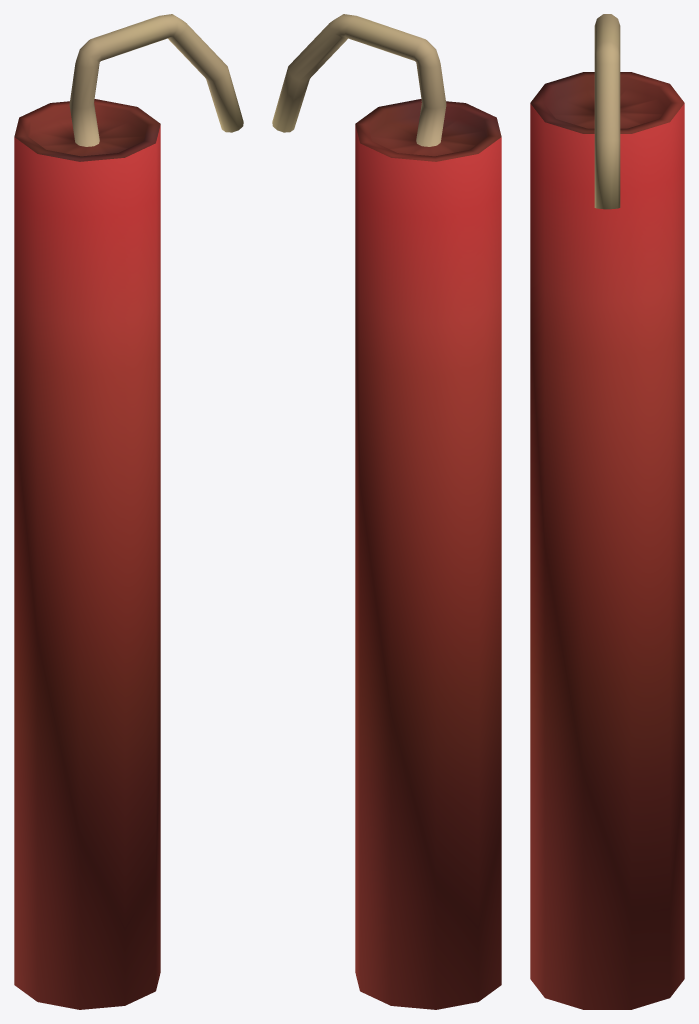
File: 7be00422-4461-47dd-abee-732ab5b343a2.glb
3 renders of one model, left to right at view 1: azimuth 30°, elevation 25°; view 2: azimuth 150°, elevation 25°; view 3: azimuth 270°, elevation 25°, orthographic. The views are drawn at different scales.
Parts seen in each view (by area): view 1: DynamiteStick; view 2: DynamiteStick; view 3: DynamiteStick.
Boxes of the visible parts, x1,y1,x2,y2 form: DynamiteStick: [14, 14, 243, 1009]; DynamiteStick: [272, 14, 501, 1009]; DynamiteStick: [530, 14, 684, 1009].
Bounding box in the file's own units: 0.0666 × 0.2781 × 0.04.
1 material, 1 textured.
